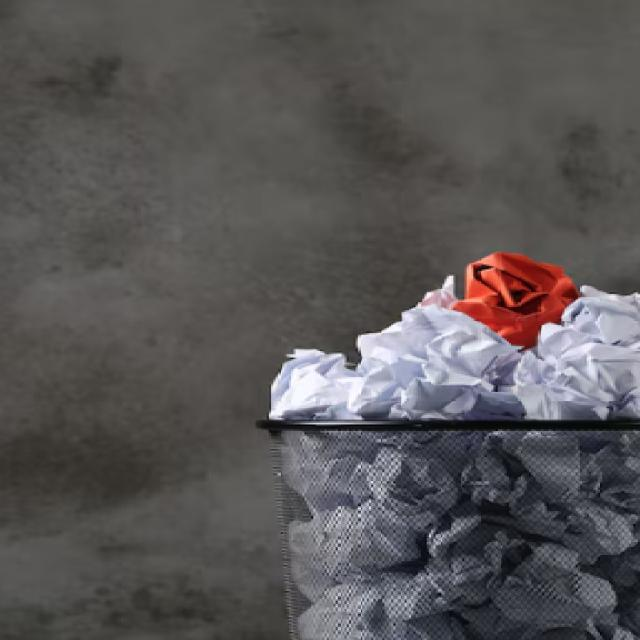KertasBekas: (258, 252, 638, 638), (266, 250, 638, 421), (449, 250, 580, 348)
